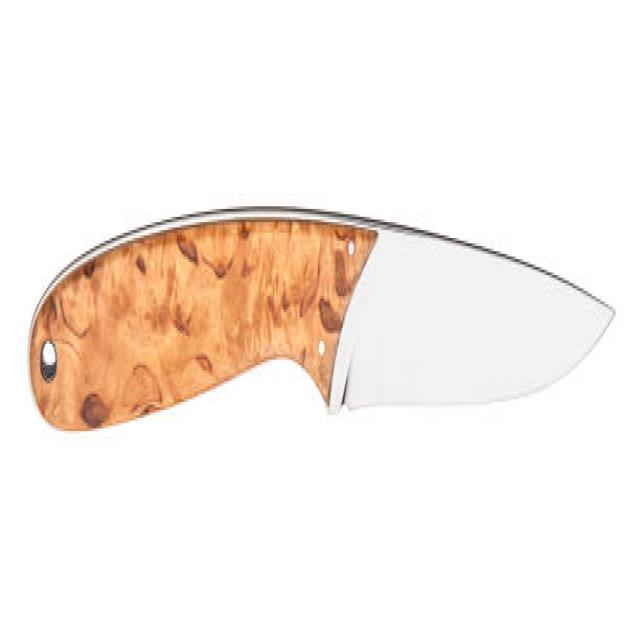knife: (28, 195, 621, 475)
